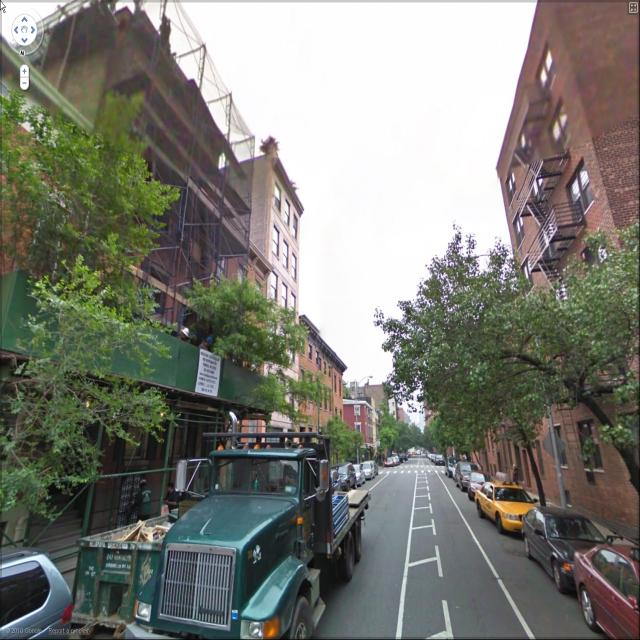b_1: (224, 151, 328, 302)
b_2: (106, 8, 256, 506), (500, 4, 638, 534), (0, 34, 97, 558), (464, 330, 568, 502), (283, 302, 344, 475), (406, 352, 478, 474), (332, 380, 384, 482)
